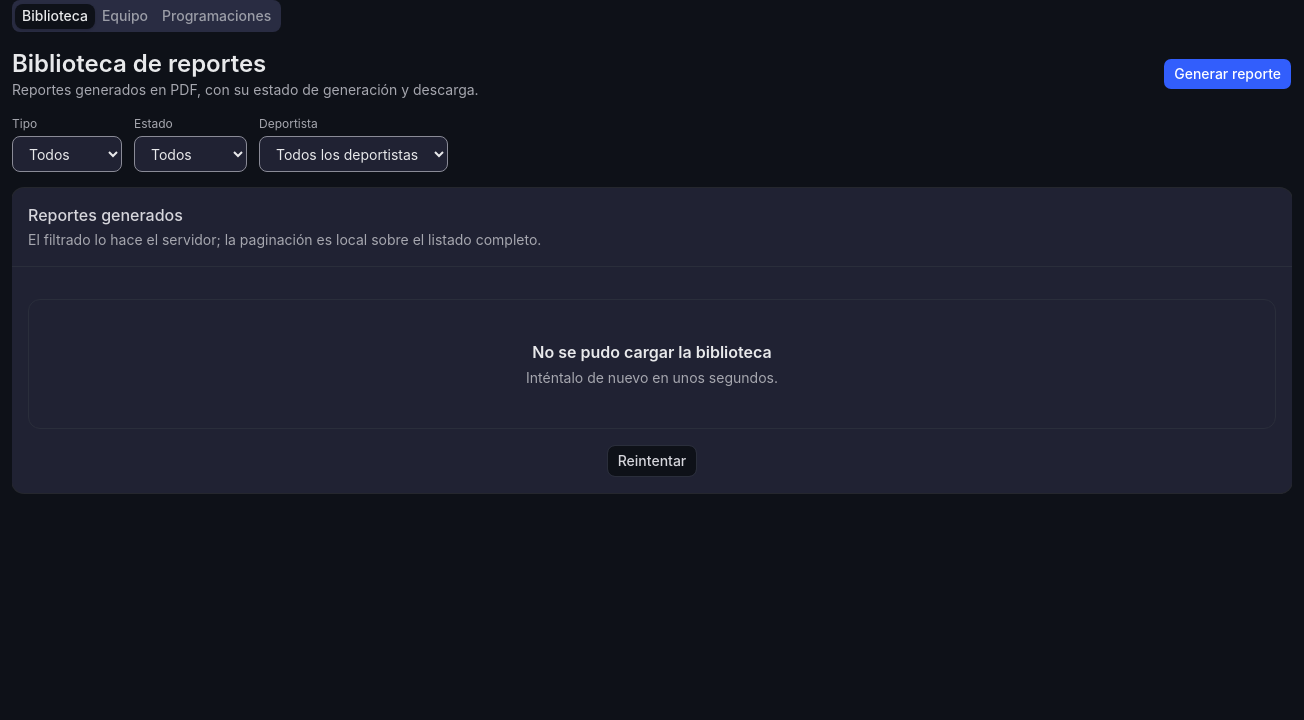
Test case: ReportsLibraryPage — filtros, lista y paginación (C5, C9, C11) › estado de error con reintento que vuelve a pedir la lista
Check: the text "No se pudo cargar la biblioteca" is shown, box [526, 340, 778, 364]
Click the button "Reintentar". click: coordinates (652, 461)
box: [607, 445, 697, 477]
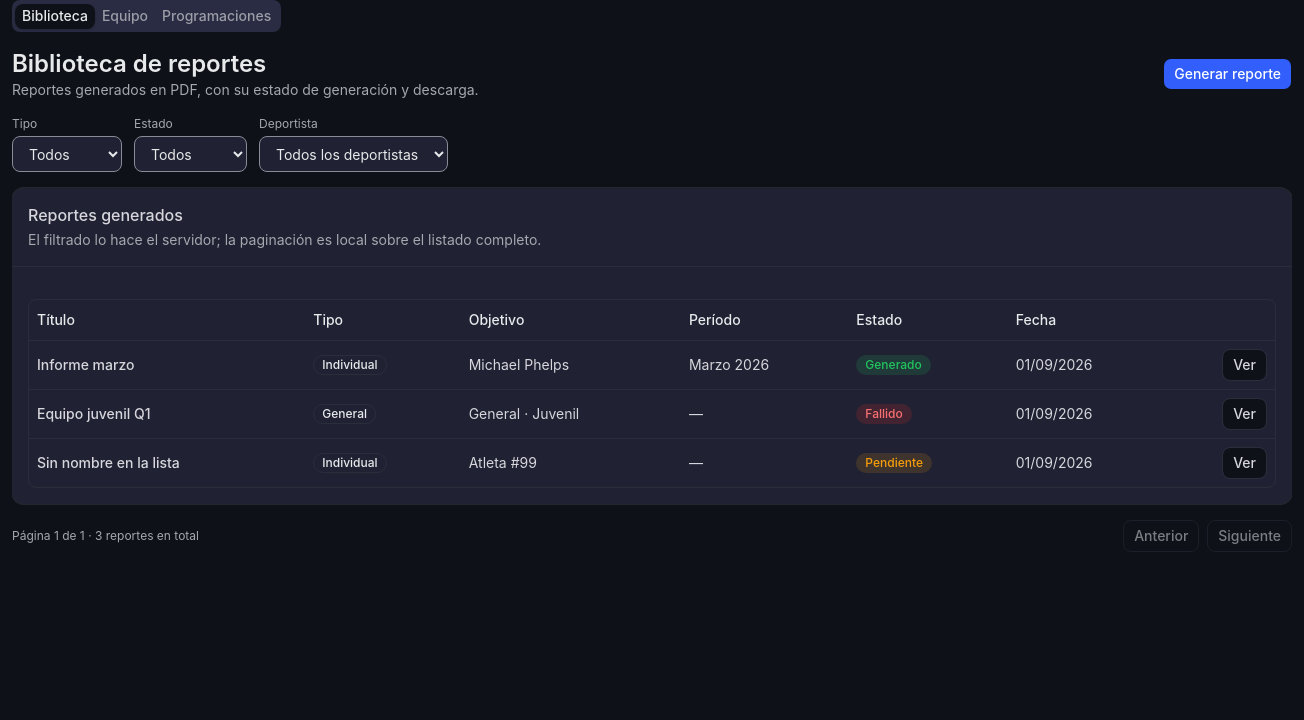
Check: the table with test id "reports-list" is shown, box [29, 300, 1275, 486]
